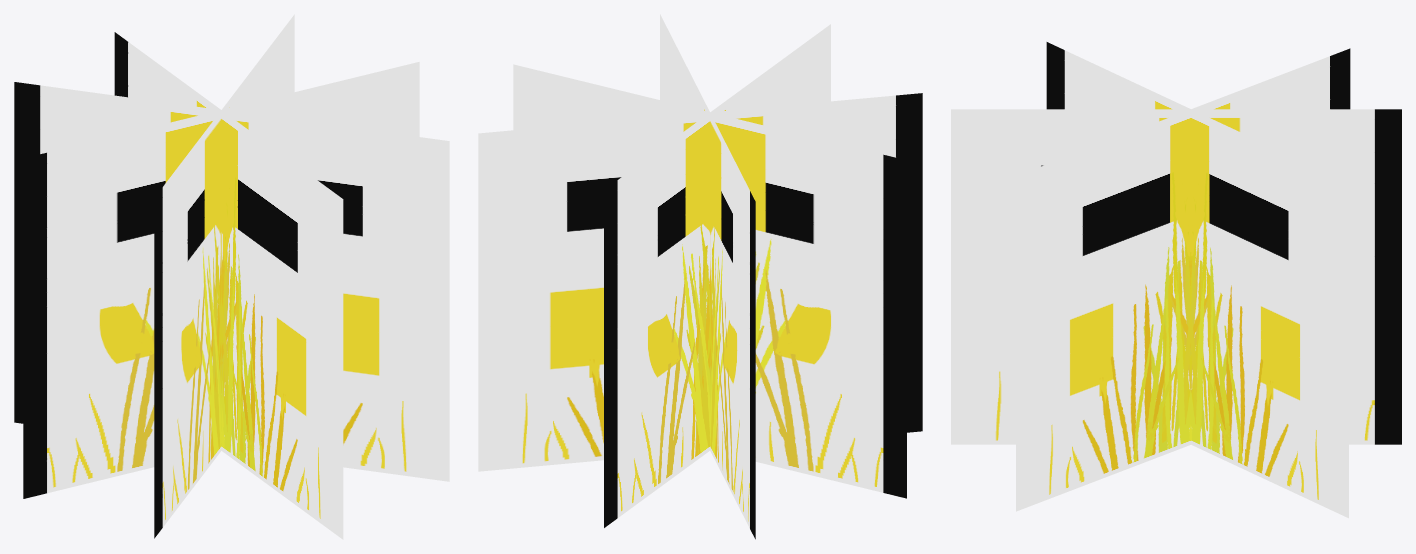
Rendered from Blé.FBX.
3 views of the same model, side by side, from view 1: azimuth 30°, elevation 25°; view 2: azimuth 150°, elevation 25°; view 3: azimuth 270°, elevation 25° (orthographic).
Parts seen in each view (by area): view 1: Grass_High001; view 2: Grass_High001; view 3: Grass_High001.
Boxes of the visible parts, bbox=[...] form: Grass_High001: bbox=[14, 14, 449, 539]; Grass_High001: bbox=[478, 14, 922, 539]; Grass_High001: bbox=[951, 42, 1401, 518].
Size of the model in its own units: 196 by 161 by 196.
Materials: 1 (1 with a texture image).
